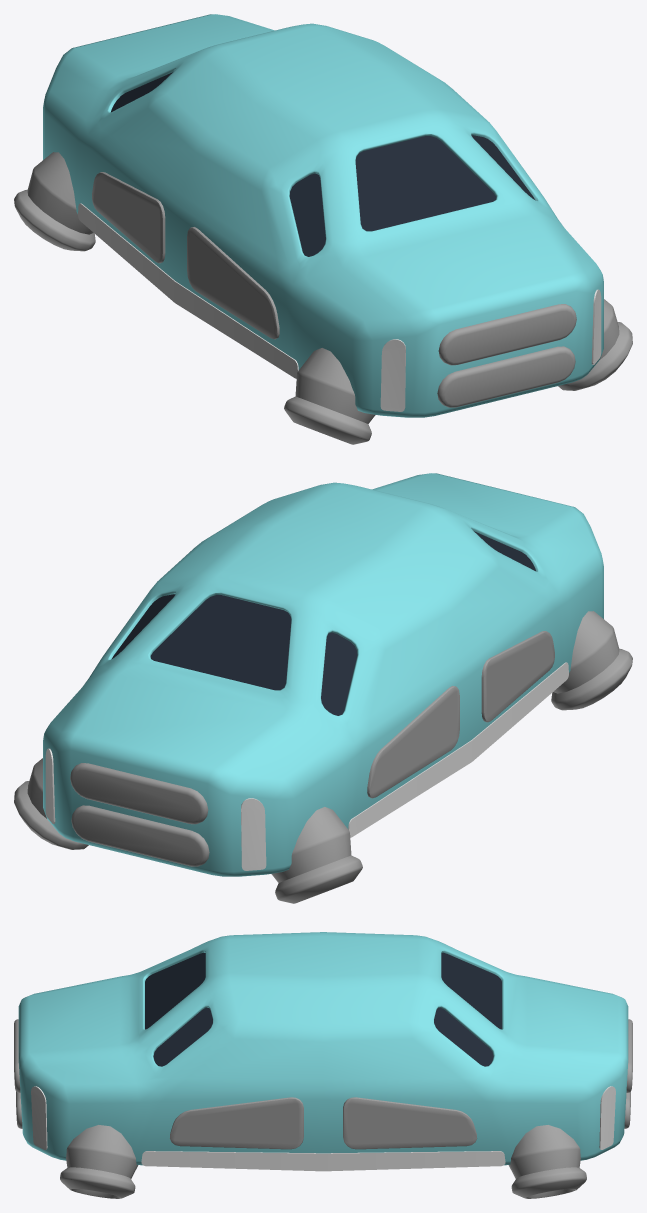
The model's file is CAR(1).fbx.
3 views of the same model, one above another, from view 1: azimuth 30°, elevation 25°; view 2: azimuth 150°, elevation 25°; view 3: azimuth 270°, elevation 25° (orthographic). The views are drawn at different scales.
Visible parts, largest first — view 1: MAIN.003, GLASS.003, REACTOR.003, FRONT, SIDES_TOP.003, SIDES.003, EMIT.003; view 2: MAIN.003, GLASS.003, REACTOR.003, FRONT, SIDES_TOP.003, SIDES.003, EMIT.003; view 3: MAIN.003, SIDES_TOP.003, REACTOR.003, GLASS.003, SIDES.003, EMIT.003, FRONT.
Boxes of the visible parts, box(x1,y1,x2,y2) form: MAIN.003: box(43, 14, 603, 417); GLASS.003: box(111, 72, 535, 256); REACTOR.003: box(14, 152, 632, 444); FRONT: box(437, 304, 576, 407); SIDES_TOP.003: box(92, 172, 279, 339); SIDES.003: box(78, 203, 298, 378); EMIT.003: box(380, 289, 601, 411); MAIN.003: box(43, 473, 603, 876); GLASS.003: box(111, 531, 535, 715); REACTOR.003: box(14, 611, 632, 903); FRONT: box(70, 763, 209, 866); SIDES_TOP.003: box(367, 631, 554, 798); SIDES.003: box(348, 662, 568, 837); EMIT.003: box(45, 748, 266, 870); MAIN.003: box(18, 932, 628, 1165); SIDES_TOP.003: box(169, 1097, 477, 1149); REACTOR.003: box(60, 1125, 586, 1198); GLASS.003: box(145, 952, 501, 1066); SIDES.003: box(141, 1151, 505, 1171); EMIT.003: box(31, 1086, 615, 1149); FRONT: box(14, 1019, 632, 1128).
Bounding box in the file's own units: 214 × 143 × 412.
